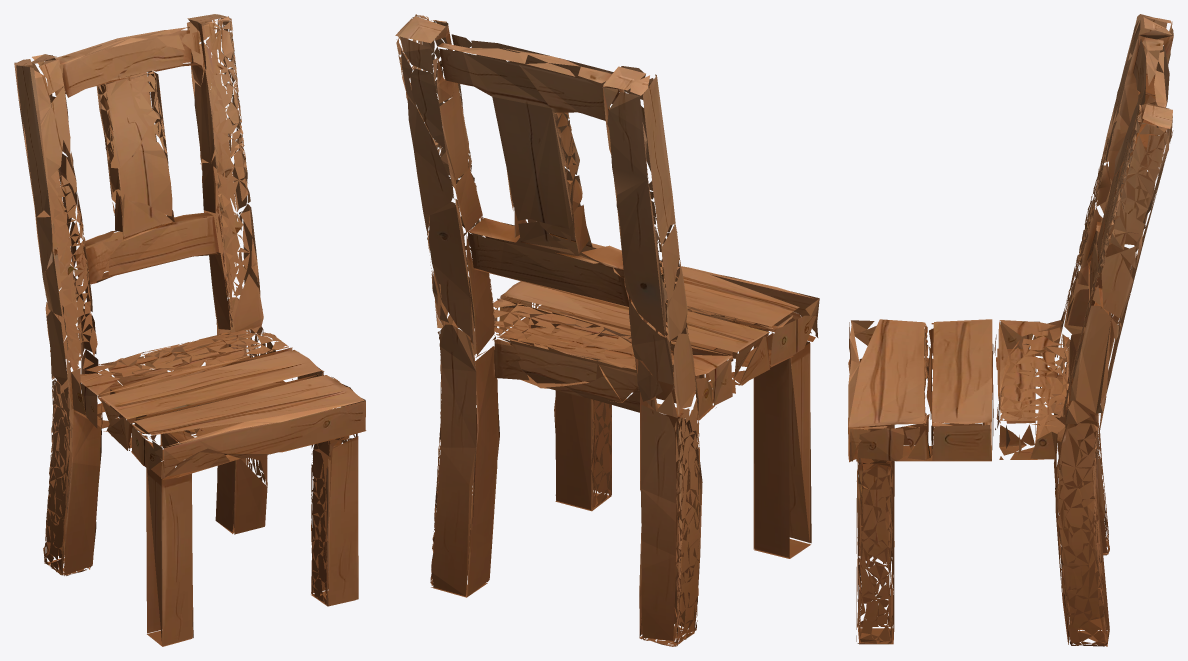
The model's file is chair.glb.
The picture shows the model from 3 angles, left to right: view 1: azimuth 30°, elevation 25°; view 2: azimuth 150°, elevation 25°; view 3: azimuth 270°, elevation 25°; orthographic projection. The views are drawn at different scales.
Visible parts, largest first — view 1: material; view 2: material; view 3: material.
Part boxes in pixels (<box>): material: <box>14,14,366,646</box>; material: <box>395,14,819,646</box>; material: <box>848,14,1173,646</box>.
Bounding box in the file's own units: 0.4043 × 0.919 × 0.5119.
Materials: 1 (1 with a texture image).
